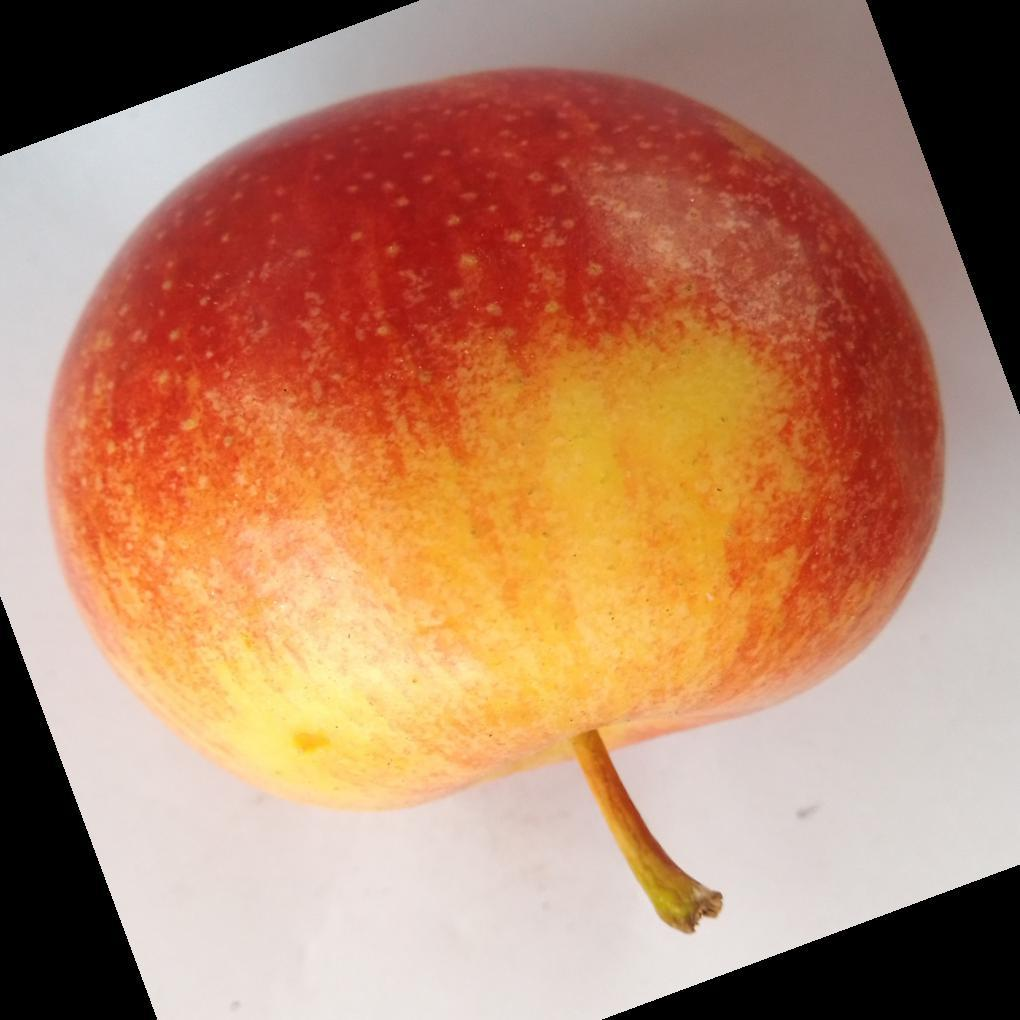FreshGuava: (43, 69, 947, 937)
